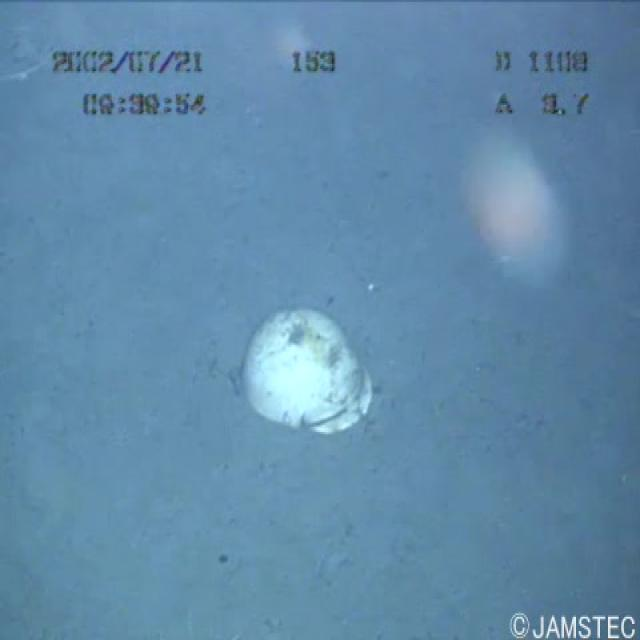plastic: (210, 292, 414, 454)
